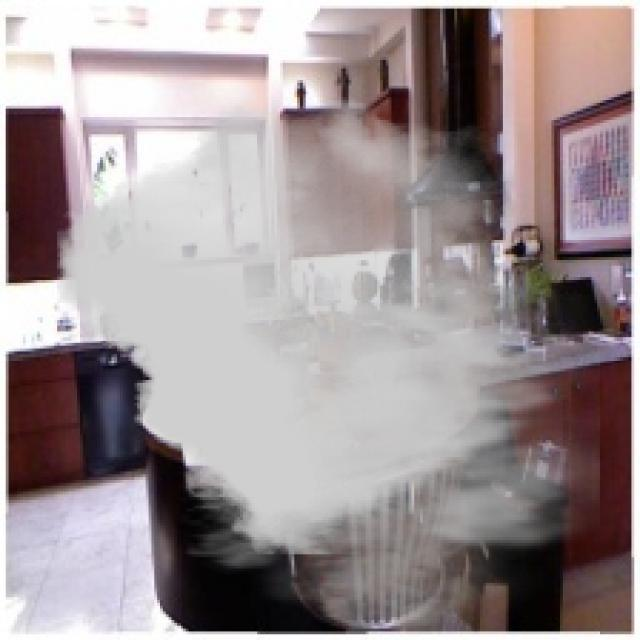Smoke: (57, 97, 600, 632)
